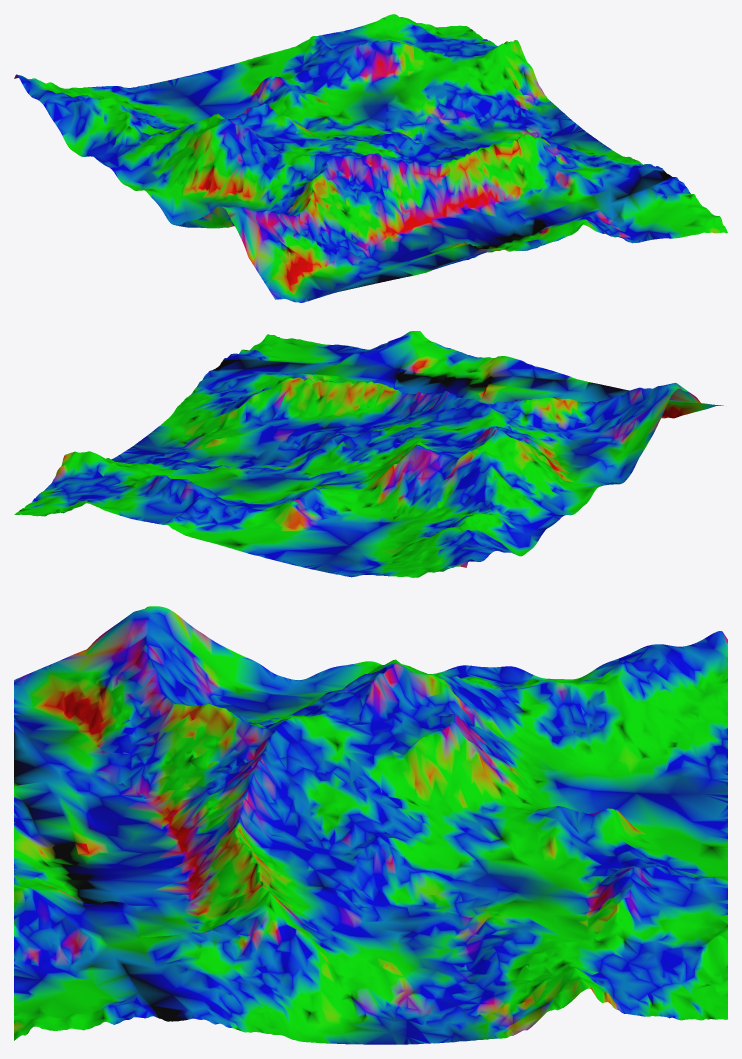
3 renders of one model, top to bottom at view 1: azimuth 30°, elevation 25°; view 2: azimuth 150°, elevation 25°; view 3: azimuth 270°, elevation 25°, orthographic. The views are drawn at different scales.
Visible parts, largest first — view 1: E_2_0; view 2: E_2_0; view 3: E_2_0.
Part boxes in pixels (x1,y1,x2,y2): E_2_0: (14, 14, 727, 302); E_2_0: (14, 331, 723, 577); E_2_0: (14, 606, 727, 1044).
Bounding box in the file's own units: 819 × 178 × 819.
